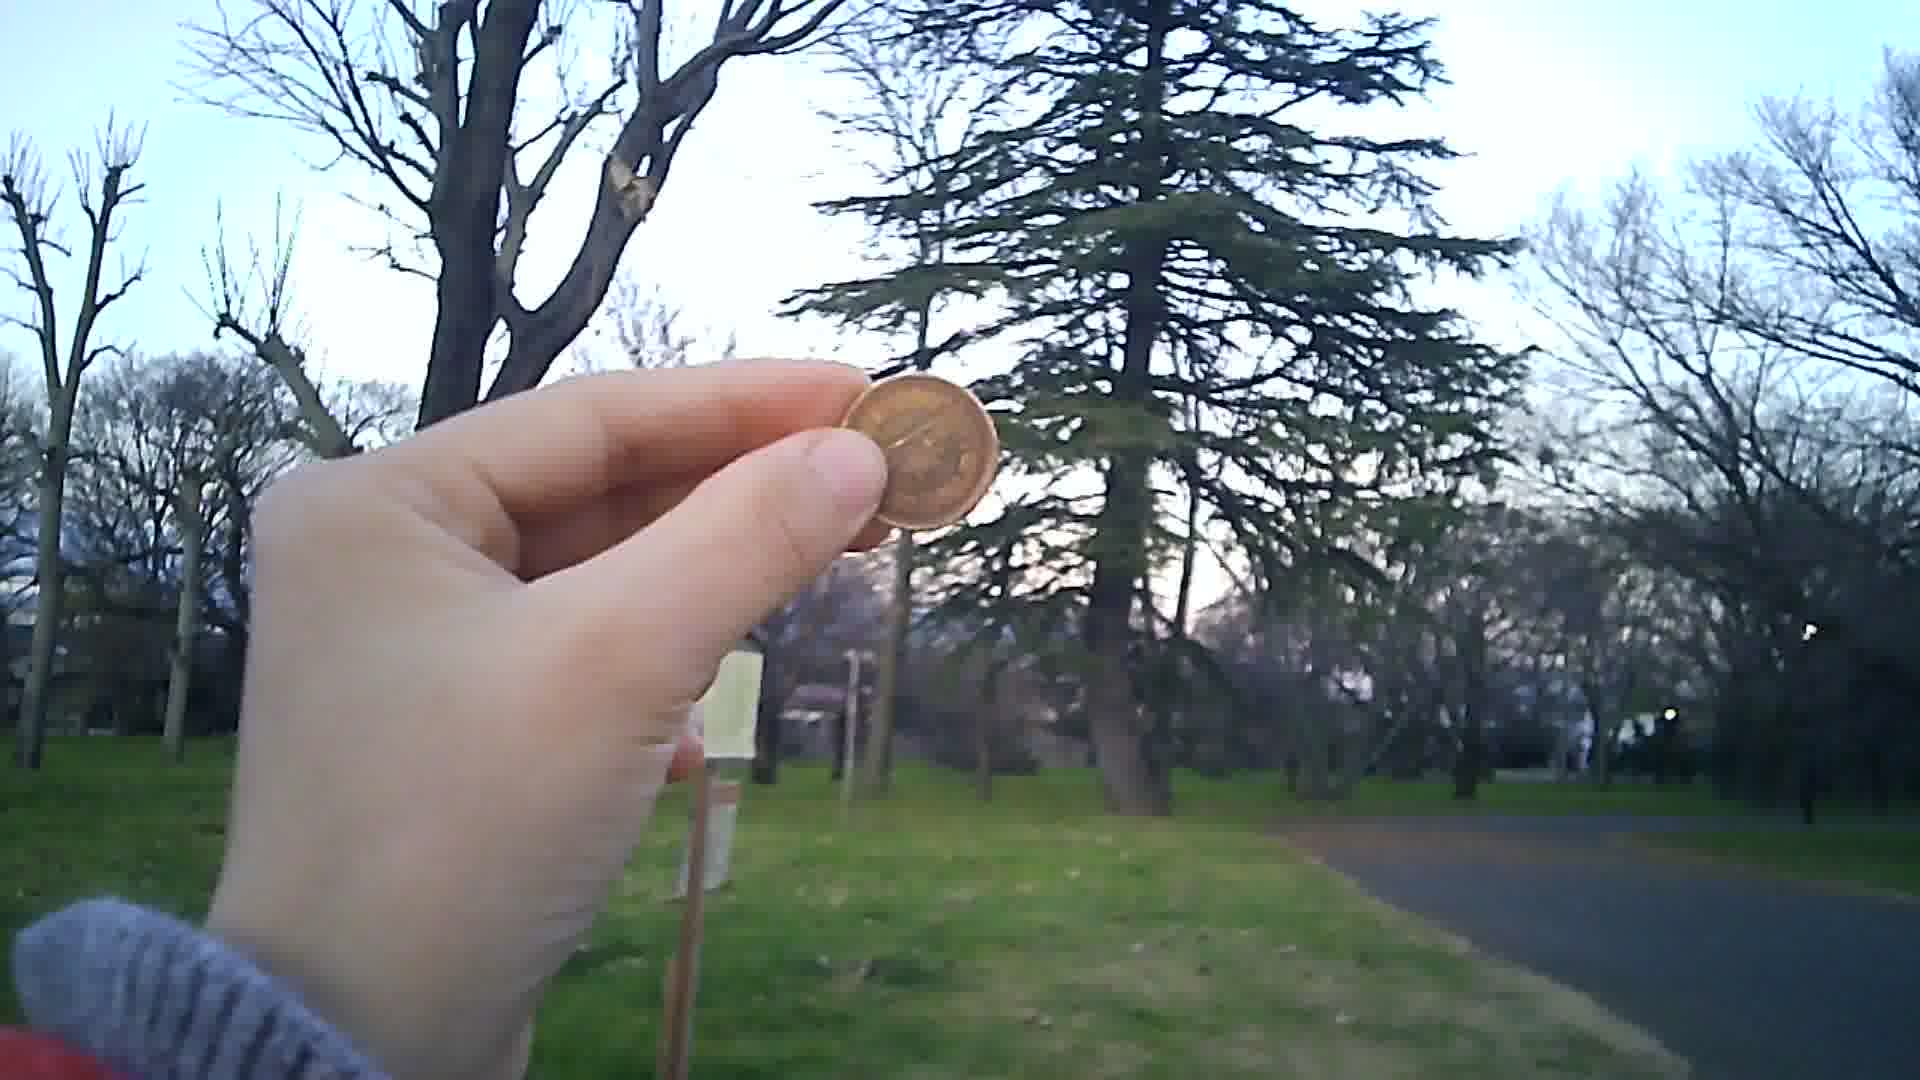10 Yen: (837, 367, 1000, 525)
